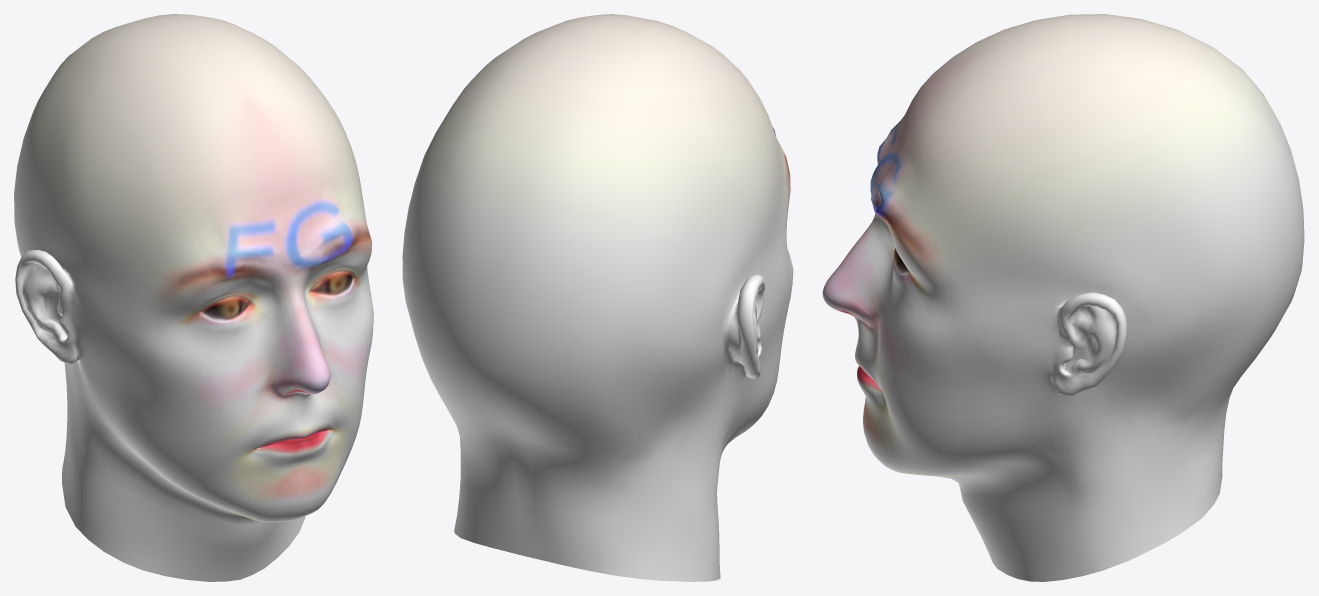
File: avg_anyrace_female_02.obj
3 renders of one model, left to right at view 1: azimuth 30°, elevation 25°; view 2: azimuth 150°, elevation 25°; view 3: azimuth 270°, elevation 25°, orthographic. The views are drawn at different scales.
Visible parts, largest first — view 1: HeadHires; view 2: HeadHires; view 3: HeadHires.
Boxes of the visible parts, x1,y1,x2,y2 form: HeadHires: (14,14,373,581); HeadHires: (402,14,793,581); HeadHires: (822,14,1304,581).
Bounding box in the file's own units: 187 × 283 × 234.
Materials: 1 (1 with a texture image).
